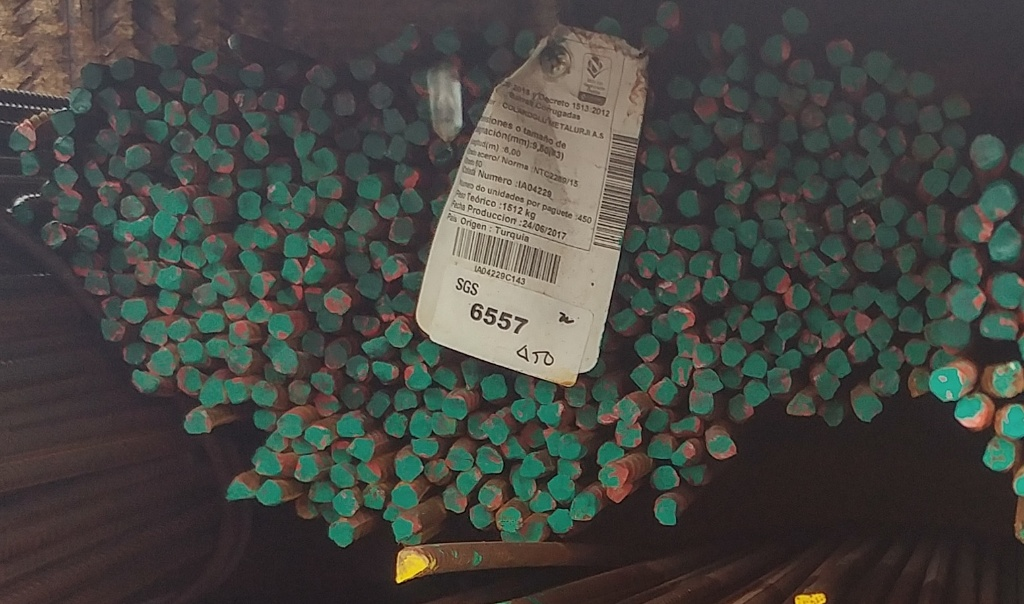dipstick: (949, 282, 986, 320), (953, 205, 992, 241), (990, 219, 1020, 265), (926, 317, 969, 348), (982, 180, 1015, 220), (947, 248, 985, 281), (968, 135, 1003, 168), (957, 397, 991, 429), (984, 312, 1019, 343), (990, 274, 1020, 309), (993, 362, 1023, 397), (851, 392, 885, 421), (932, 368, 960, 402), (988, 440, 1016, 474), (536, 402, 571, 429), (761, 34, 791, 65), (853, 244, 885, 273), (631, 332, 663, 361), (704, 432, 736, 461), (715, 153, 746, 182), (638, 144, 671, 171), (397, 549, 423, 583), (819, 235, 851, 262), (652, 496, 679, 528), (687, 250, 716, 279), (871, 367, 900, 396), (826, 38, 854, 68), (310, 148, 340, 176), (940, 93, 971, 120), (198, 374, 225, 405), (814, 369, 840, 401), (1001, 404, 1024, 440), (635, 194, 664, 222), (506, 469, 535, 497), (474, 448, 503, 476), (343, 151, 372, 179), (169, 153, 197, 182), (893, 244, 920, 274), (765, 367, 795, 394), (649, 377, 679, 404), (824, 350, 851, 380), (782, 6, 808, 37), (790, 224, 821, 250), (786, 394, 817, 420), (174, 363, 199, 395), (665, 76, 698, 100), (570, 493, 598, 521), (862, 50, 888, 80), (702, 276, 728, 306), (299, 85, 329, 111), (243, 109, 273, 135), (127, 368, 157, 394), (397, 449, 423, 479), (519, 520, 550, 545), (363, 335, 394, 360), (818, 264, 850, 288), (458, 356, 482, 388), (139, 321, 171, 345), (317, 179, 350, 202), (138, 119, 171, 142), (792, 153, 819, 181), (764, 265, 791, 293), (674, 226, 702, 253), (532, 380, 561, 406), (442, 484, 468, 513), (481, 375, 507, 404), (271, 351, 300, 377), (398, 189, 428, 214), (332, 86, 357, 116), (205, 88, 230, 118), (183, 410, 213, 435), (741, 119, 763, 153), (639, 171, 670, 195), (917, 104, 944, 131), (850, 214, 877, 241), (836, 182, 863, 209), (309, 228, 336, 255), (156, 267, 183, 294), (777, 82, 803, 110), (691, 97, 719, 123), (675, 191, 703, 217), (482, 416, 508, 444), (95, 126, 123, 152), (430, 411, 456, 439), (347, 435, 375, 461), (669, 144, 694, 173), (595, 17, 624, 42), (349, 58, 379, 82), (253, 380, 276, 411), (390, 520, 421, 543), (874, 224, 901, 250), (777, 176, 804, 202), (755, 192, 782, 218), (646, 227, 672, 254), (720, 366, 747, 392), (615, 396, 641, 423), (617, 421, 643, 448), (656, 3, 683, 29), (234, 191, 260, 218), (282, 233, 309, 259), (121, 297, 147, 324), (284, 379, 311, 405), (406, 412, 433, 438), (136, 86, 161, 114), (858, 121, 882, 150), (722, 87, 751, 111), (876, 289, 900, 318), (688, 124, 712, 153), (182, 76, 206, 105), (238, 250, 267, 274), (693, 370, 726, 391), (714, 203, 744, 226), (720, 250, 743, 280), (644, 437, 674, 460), (244, 129, 267, 159), (418, 336, 441, 366), (733, 279, 759, 305), (650, 313, 676, 339), (436, 29, 462, 55), (342, 355, 368, 381), (123, 341, 149, 367), (303, 425, 329, 451), (941, 121, 966, 148), (922, 169, 947, 196), (894, 98, 919, 125), (877, 197, 902, 224), (688, 390, 715, 415), (647, 407, 672, 434), (673, 439, 698, 466), (652, 466, 679, 491), (904, 338, 929, 365), (469, 503, 494, 530), (193, 197, 218, 224), (325, 288, 350, 315), (386, 320, 411, 347), (226, 321, 253, 346), (293, 496, 320, 521), (701, 73, 729, 97), (924, 293, 948, 321), (803, 180, 831, 204), (762, 216, 790, 240), (656, 255, 684, 279), (909, 365, 930, 397), (125, 173, 153, 197), (99, 319, 127, 343), (344, 254, 372, 278), (268, 315, 296, 339), (301, 330, 325, 358), (176, 340, 204, 364), (147, 349, 175, 373), (311, 393, 339, 417), (227, 479, 255, 503), (393, 484, 421, 508), (868, 320, 891, 349), (668, 309, 697, 332), (671, 358, 694, 387), (151, 45, 180, 68), (402, 367, 431, 390), (844, 150, 866, 180), (752, 158, 774, 188), (642, 121, 673, 142), (756, 71, 782, 96), (726, 53, 751, 79), (924, 264, 949, 290), (896, 274, 921, 300), (739, 318, 764, 344), (547, 478, 572, 504), (338, 124, 364, 149), (309, 64, 335, 89), (187, 108, 212, 134), (208, 173, 234, 198), (384, 414, 409, 440), (948, 168, 972, 195), (914, 132, 938, 159), (809, 77, 833, 104), (703, 318, 730, 342), (674, 332, 698, 359), (213, 122, 240, 146), (80, 161, 104, 188), (83, 271, 110, 295), (721, 25, 744, 53), (713, 118, 741, 141), (926, 206, 949, 234), (710, 227, 738, 250), (677, 276, 700, 304), (441, 394, 469, 417), (109, 58, 137, 81), (253, 223, 276, 251), (353, 274, 381, 297), (205, 338, 233, 361), (802, 128, 831, 150), (356, 176, 385, 198), (349, 210, 378, 232), (623, 224, 644, 254), (672, 415, 702, 436), (895, 157, 920, 182), (466, 73, 491, 98), (54, 165, 79, 190), (840, 66, 866, 90), (867, 148, 891, 174), (616, 274, 640, 300), (754, 300, 780, 324), (549, 509, 573, 535), (344, 231, 370, 255), (268, 181, 292, 207), (252, 409, 278, 433), (255, 482, 281, 506), (828, 117, 855, 140), (775, 115, 798, 142), (577, 403, 600, 430), (542, 429, 565, 456), (393, 165, 420, 188), (77, 226, 100, 253), (369, 361, 396, 384), (255, 453, 282, 476), (906, 212, 928, 240), (696, 158, 718, 186), (293, 187, 315, 215), (105, 113, 133, 135), (281, 259, 303, 287), (391, 217, 412, 246), (825, 206, 849, 231), (745, 381, 770, 405), (369, 83, 393, 108), (362, 133, 386, 158), (382, 257, 406, 282), (51, 110, 76, 134), (108, 156, 132, 181), (111, 273, 136, 297), (247, 300, 272, 324), (294, 457, 318, 482), (356, 461, 380, 486), (362, 485, 387, 509), (699, 33, 722, 59), (857, 179, 883, 202), (753, 241, 776, 267), (512, 374, 535, 400), (514, 33, 537, 59), (383, 107, 406, 133), (377, 194, 400, 220), (9, 130, 35, 153), (154, 212, 177, 238), (280, 208, 306, 231), (221, 299, 247, 322), (338, 415, 364, 438), (327, 523, 353, 546), (900, 309, 922, 336), (657, 279, 679, 306), (192, 52, 219, 74), (301, 258, 323, 285), (228, 347, 250, 374), (738, 219, 759, 247), (724, 182, 752, 203), (719, 344, 747, 365), (600, 465, 628, 486), (234, 223, 255, 251), (315, 311, 343, 332), (181, 299, 209, 320), (308, 482, 336, 503), (876, 349, 905, 369), (922, 237, 946, 261), (479, 485, 503, 509), (448, 450, 472, 474), (423, 388, 447, 412), (800, 106, 825, 129), (782, 203, 807, 226), (797, 332, 820, 357), (629, 365, 654, 388), (203, 235, 226, 260), (247, 274, 270, 299), (323, 343, 346, 368), (398, 341, 421, 366), (311, 370, 336, 393), (341, 386, 366, 409), (329, 465, 354, 488), (809, 279, 831, 305), (631, 289, 653, 315), (762, 330, 784, 356), (731, 395, 757, 417), (594, 381, 620, 403), (496, 510, 522, 532), (158, 67, 184, 89), (71, 88, 93, 114), (52, 138, 78, 160), (54, 205, 80, 227), (197, 312, 223, 334), (778, 238, 797, 268), (886, 126, 907, 153), (822, 152, 843, 179), (271, 62, 298, 83), (164, 100, 185, 127), (159, 237, 180, 264), (390, 390, 417, 411), (636, 251, 656, 279), (905, 72, 929, 95), (862, 92, 885, 116), (789, 58, 813, 81), (747, 98, 771, 121), (777, 314, 800, 338), (823, 322, 846, 346), (300, 159, 323, 183), (235, 89, 258, 113), (100, 89, 124, 112), (194, 135, 217, 159), (91, 204, 115, 227), (176, 215, 200, 238), (134, 262, 157, 286), (100, 296, 124, 319), (132, 216, 151, 245), (799, 251, 821, 276), (849, 337, 871, 362), (455, 472, 480, 494), (428, 461, 453, 483), (434, 367, 456, 392), (279, 113, 301, 138), (182, 246, 207, 268), (853, 285, 874, 311), (669, 110, 690, 136), (610, 309, 636, 330), (597, 443, 623, 464), (430, 141, 451, 167), (324, 202, 345, 228), (125, 147, 151, 168), (400, 23, 420, 50), (97, 183, 124, 203), (304, 287, 324, 314), (563, 383, 586, 406), (644, 28, 667, 51), (404, 121, 427, 144), (44, 224, 67, 247), (768, 144, 790, 168), (788, 285, 810, 309), (803, 307, 825, 331), (468, 415, 490, 439), (308, 112, 332, 134), (239, 65, 263, 87), (15, 202, 37, 226), (171, 130, 195, 152), (214, 273, 236, 297), (335, 491, 359, 513), (744, 354, 765, 379), (559, 434, 580, 459), (555, 457, 580, 478), (80, 62, 101, 87), (164, 193, 189, 214), (262, 364, 287, 385), (330, 441, 351, 466), (680, 467, 706, 487), (412, 438, 438, 458), (237, 168, 263, 188), (167, 321, 193, 341), (277, 416, 303, 436), (846, 312, 868, 335), (522, 426, 544, 449), (490, 50, 513, 72), (395, 295, 417, 318), (57, 191, 80, 213), (932, 148, 956, 169), (828, 97, 856, 115), (725, 306, 749, 327), (693, 344, 714, 368), (510, 400, 534, 421), (502, 439, 523, 463), (358, 111, 382, 132), (155, 290, 179, 311), (227, 379, 248, 403), (884, 68, 904, 93), (119, 196, 144, 216), (200, 263, 225, 283), (368, 393, 388, 418), (388, 135, 407, 161), (368, 241, 387, 267), (260, 92, 286, 111), (376, 296, 395, 322), (353, 315, 379, 334), (265, 165, 294, 182), (212, 153, 234, 175), (597, 401, 618, 424), (486, 24, 509, 45), (126, 241, 147, 264), (278, 285, 301, 306), (318, 503, 339, 526), (292, 132, 316, 152), (350, 194, 374, 214), (777, 352, 802, 371), (822, 406, 844, 427), (586, 358, 608, 379), (402, 271, 424, 292), (110, 220, 132, 241), (467, 103, 487, 126), (191, 285, 218, 302), (532, 493, 556, 512), (606, 485, 629, 504), (379, 43, 402, 62), (416, 71, 435, 94), (72, 253, 91, 276), (110, 247, 129, 270), (522, 458, 546, 476), (829, 294, 849, 315), (150, 187, 172, 206), (382, 504, 404, 523), (85, 144, 105, 164), (264, 339, 287, 356), (226, 37, 250, 53), (262, 203, 282, 222), (23, 156, 41, 176), (268, 432, 288, 449), (291, 440, 315, 454), (502, 531, 523, 546)
